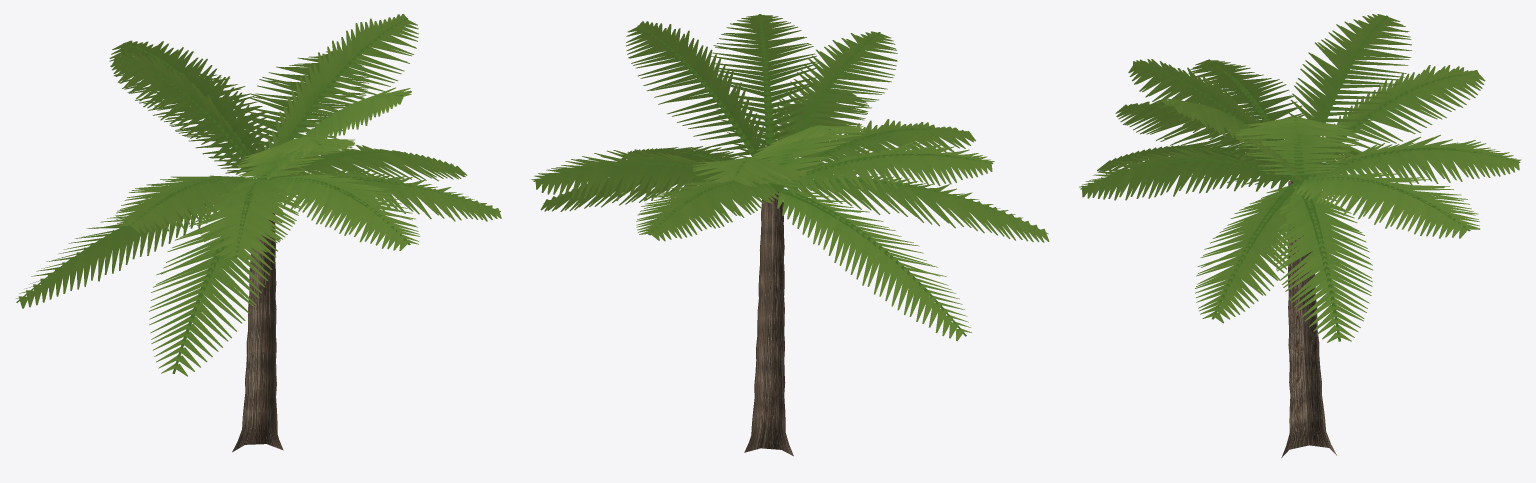
The model's file is palm_young.glb.
3 views of the same model, side by side, from view 1: azimuth 30°, elevation 25°; view 2: azimuth 150°, elevation 25°; view 3: azimuth 270°, elevation 25° (orthographic). The views are drawn at different scales.
Visible parts, largest first — view 1: leaves, trunk; view 2: leaves, trunk; view 3: leaves, trunk.
Boxes of the visible parts, <box> form: leaves: <box>15,14,501,376</box>; trunk: <box>232,213,283,452</box>; leaves: <box>531,14,1049,341</box>; trunk: <box>744,191,793,456</box>; leaves: <box>1079,14,1521,342</box>; trunk: <box>1281,180,1336,457</box>.
Bounding box in the file's own units: 4.34 × 3.84 × 3.8.
2 materials, 1 textured.
